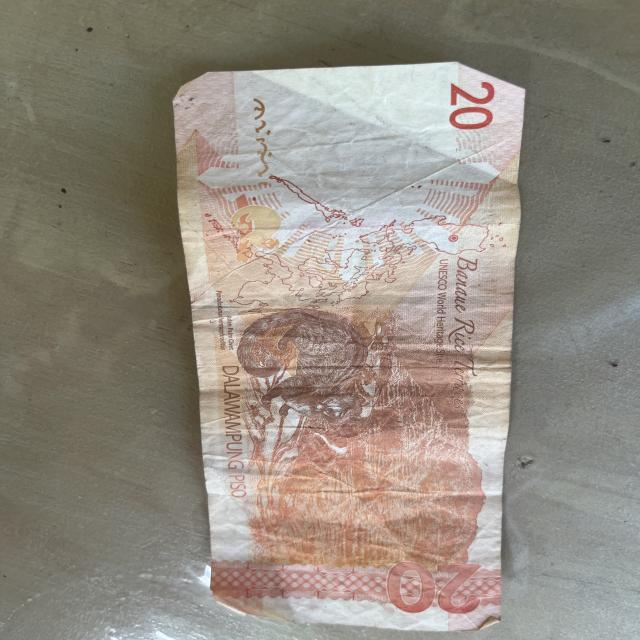20_civet: (233, 302, 368, 428)
20_civet_watermark: (224, 207, 282, 256)
